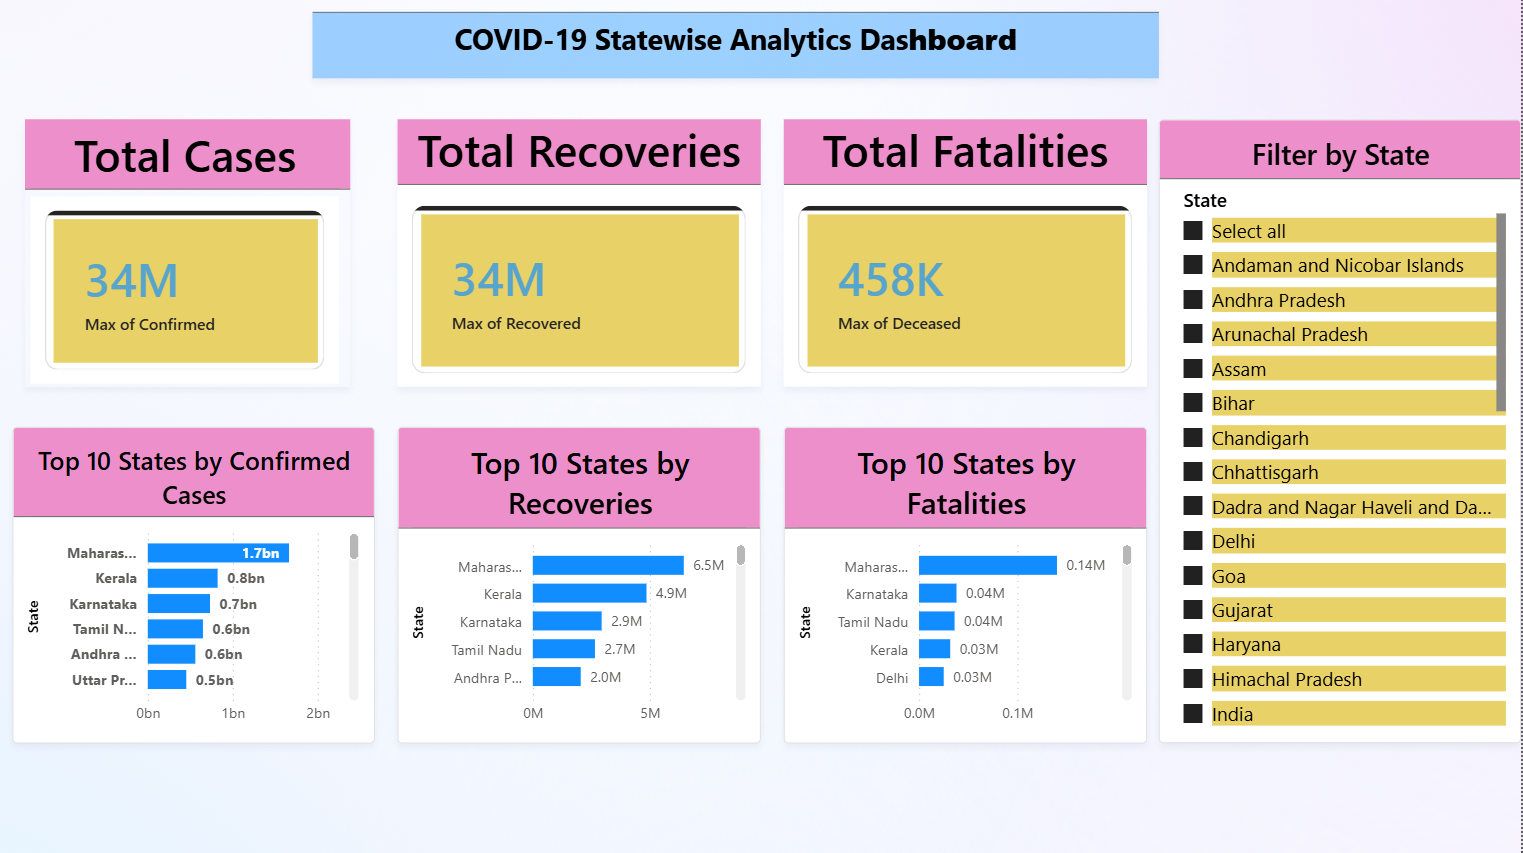

What the dashboard file says about the page in this screenshot:
{"tool":"powerbi","page":{"name":"Page 1","canvas":[1280,720],"ordinal":0},"visuals":[{"type":"cardVisual","title":"Total Cases","fields":{"Data":["Max(raw_data_Indian_states.Confirmed)"]},"box":[20.6,101.5,273.5,225],"z":0},{"type":"cardVisual","title":"Total Recoveries","fields":{"Data":["Max(raw_data_Indian_states.Recovered)"]},"box":[333.8,101.5,305.9,225],"z":1},{"type":"cardVisual","title":" Total Fatalities","fields":{"Data":["Max(raw_data_Indian_states.Deceased)"]},"box":[658.8,101.5,305.9,225],"z":2},{"type":"clusteredBarChart","title":"Top 10 States by Confirmed Cases","fields":{"Category":["raw_data_Indian_states.State"],"Y":["Sum(raw_data_Indian_states.Confirmed)"]},"box":[10.3,360.3,304.4,266.2],"z":3},{"type":"clusteredBarChart","title":"Top 10 States by Recoveries","fields":{"Category":["raw_data_Indian_states.State"],"Y":["Max(raw_data_Indian_states.Recovered)"]},"box":[333.8,360.3,305.9,266.2],"z":4},{"type":"clusteredBarChart","title":"Top 10 States by Fatalities","fields":{"Category":["raw_data_Indian_states.State"],"Y":["Max(raw_data_Indian_states.Deceased)"]},"box":[658.8,360.3,305.9,266.2],"z":5},{"type":"slicer","title":"Filter by State","fields":{"Values":["raw_data_Indian_states.State"]},"box":[975,101.5,304.4,525],"z":6},{"type":"textbox","box":[263.2,11.8,711.8,55.9],"z":7}]}

Visuals, with their boxes in screenshot pixels (x1, y1, x2, y2), scaled from the page's 1280x720 canvas onto the 1523x853 screenshot:
"Total Cases" cardVisual: 25:120:350:387
"Total Recoveries" cardVisual: 397:120:761:387
" Total Fatalities" cardVisual: 784:120:1148:387
"Top 10 States by Confirmed Cases" clusteredBarChart: 12:427:374:742
"Top 10 States by Recoveries" clusteredBarChart: 397:427:761:742
"Top 10 States by Fatalities" clusteredBarChart: 784:427:1148:742
"Filter by State" slicer: 1160:120:1522:742
textbox: 313:14:1160:80
